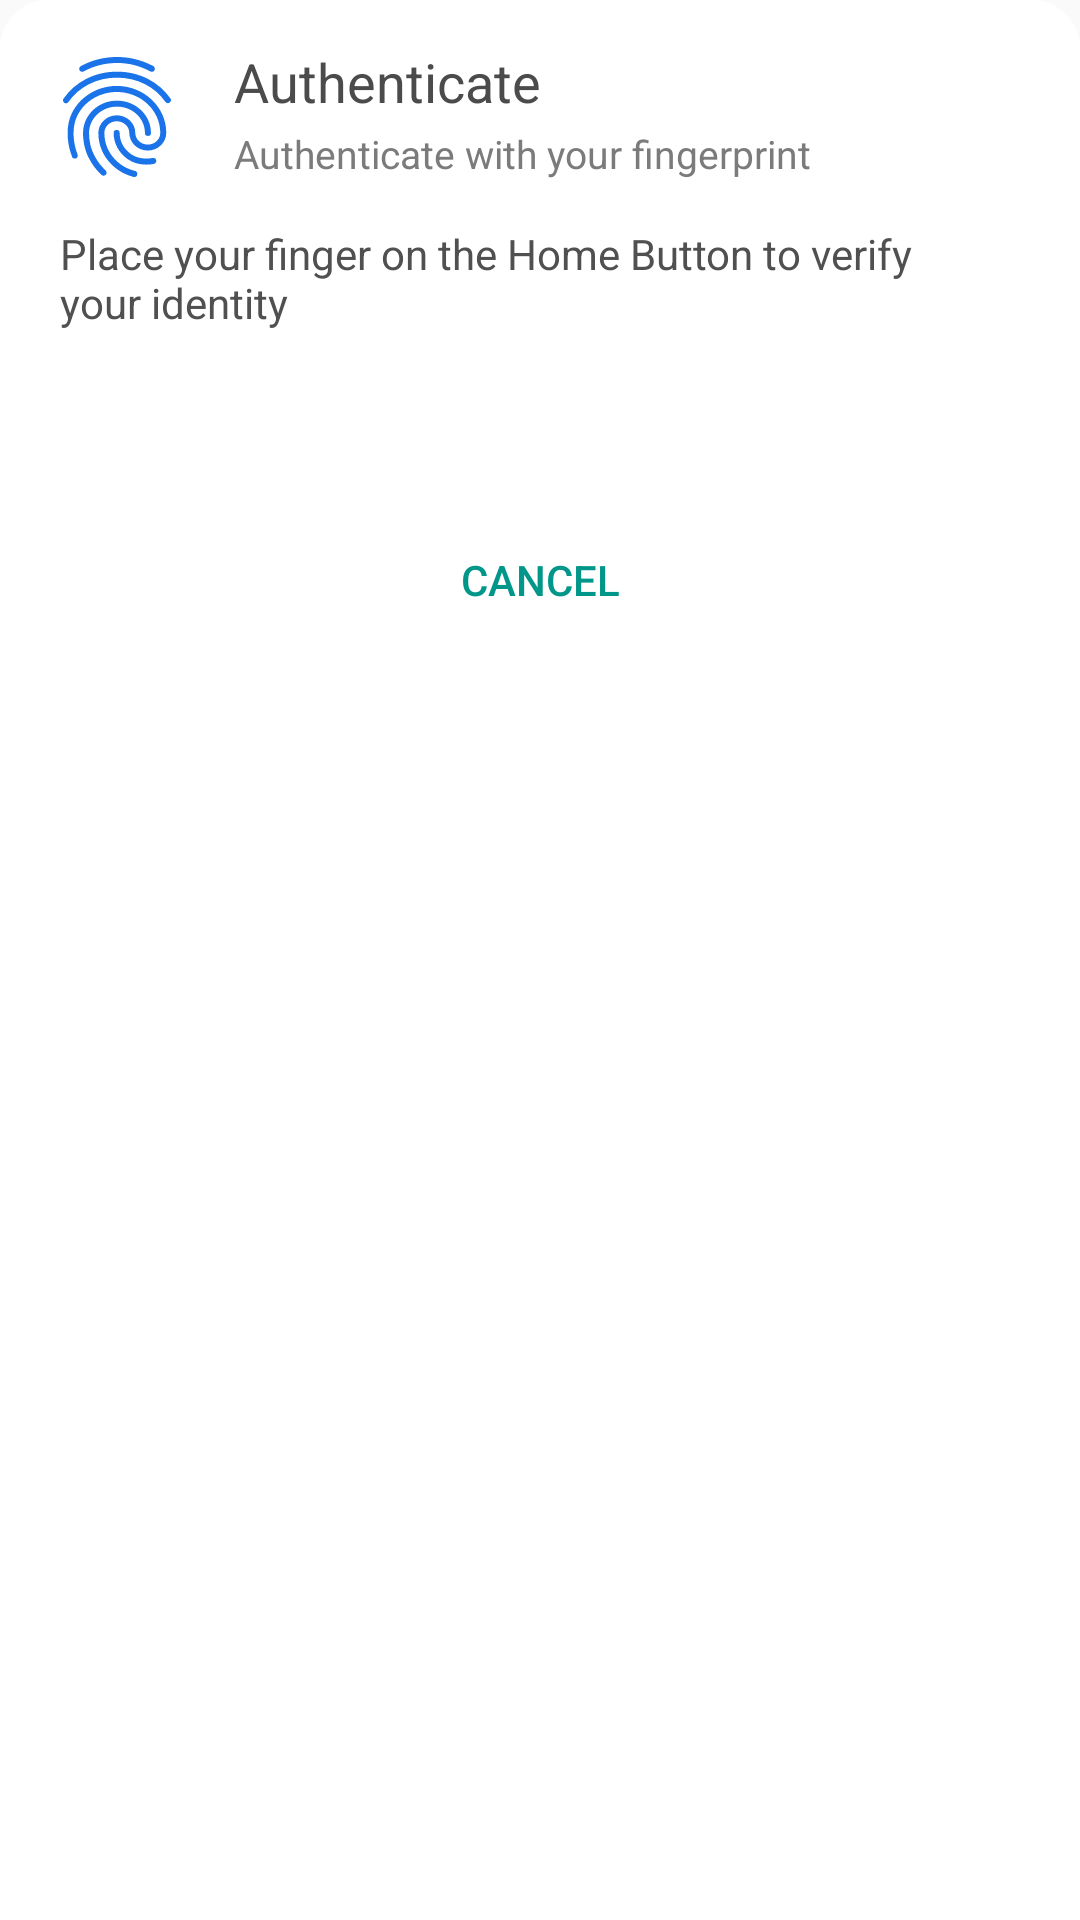

Point at icon controls on the screen. Image size 1080×1920, points as (x,y).
fingerprint inverse: (117,117)
